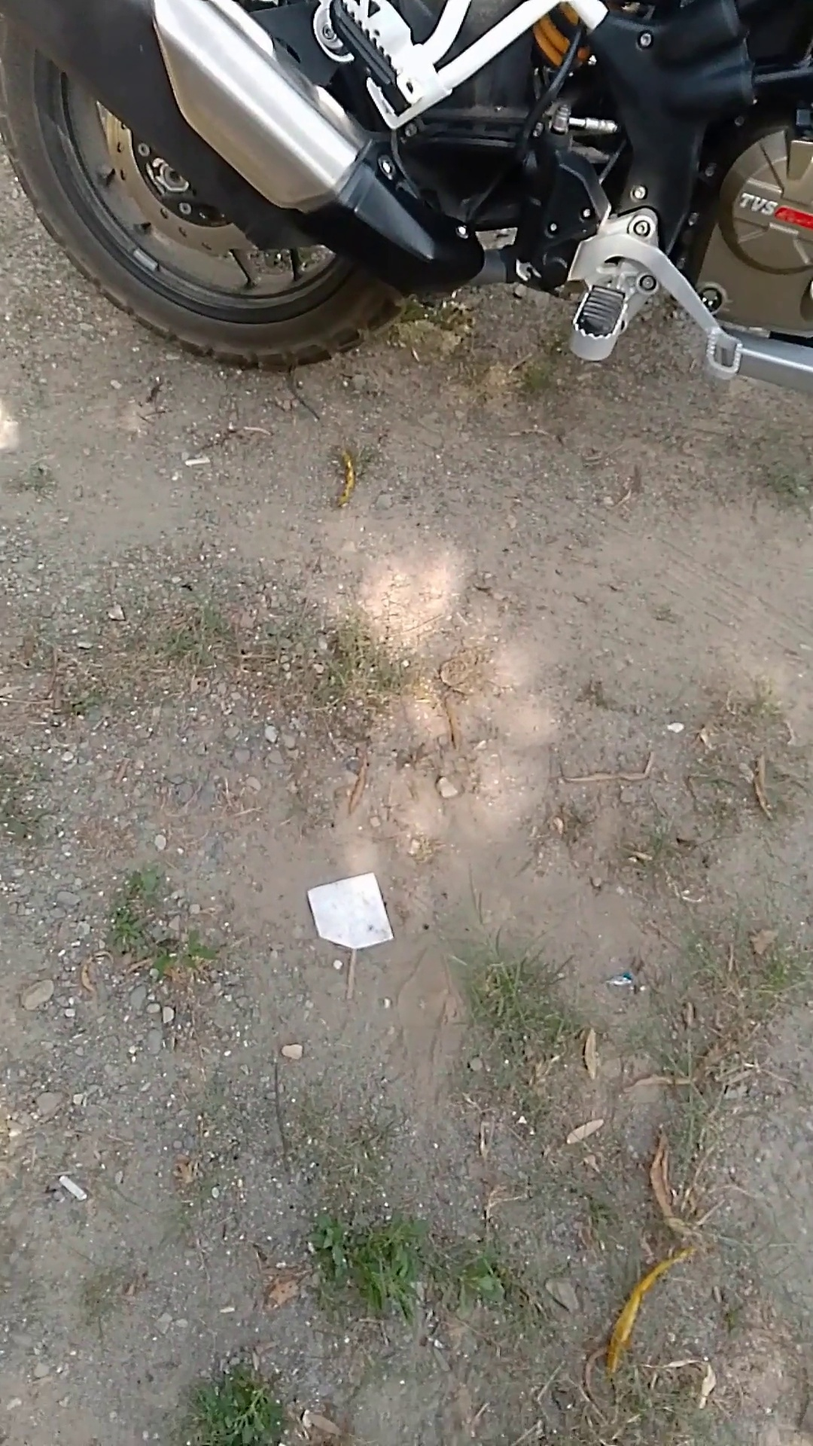engine: (692, 111, 813, 340)
oil_marker: (695, 273, 748, 321)
